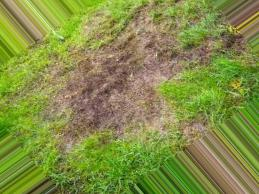patch: (85, 74, 156, 116), (126, 45, 166, 66), (64, 91, 93, 113), (98, 52, 116, 68), (171, 54, 193, 61), (113, 120, 129, 125)
